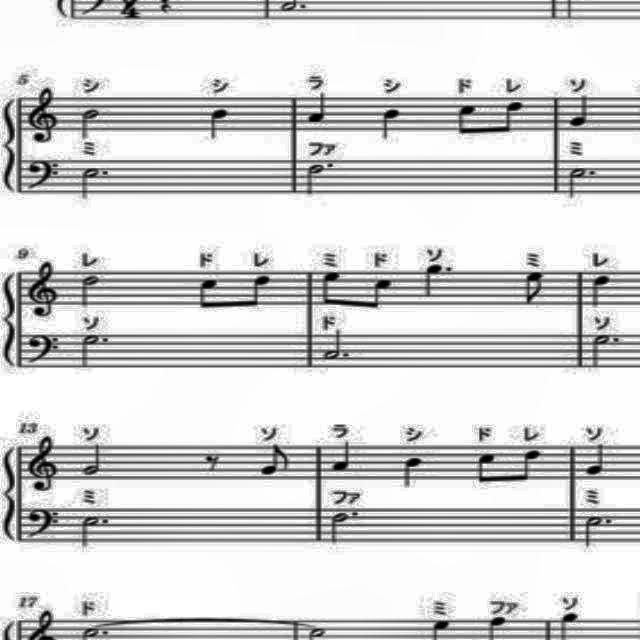Bass-clef: (26, 157, 62, 199), (25, 330, 67, 366), (27, 504, 65, 540)
Eighth-note: (488, 96, 528, 138), (187, 272, 223, 318), (254, 443, 294, 481), (238, 271, 274, 313), (447, 98, 478, 142), (365, 274, 397, 316), (314, 269, 346, 311), (512, 448, 544, 488), (471, 450, 501, 490), (519, 269, 547, 307)
Eighth-rest: (200, 448, 224, 476)
Half-dot: (579, 513, 619, 555), (418, 261, 458, 303), (322, 509, 366, 547), (303, 156, 337, 202), (76, 331, 112, 374), (77, 162, 113, 202), (80, 513, 112, 555), (590, 331, 622, 373), (322, 328, 354, 367), (566, 163, 598, 201)
Half-note: (76, 271, 108, 309), (72, 104, 104, 140), (80, 438, 108, 478)
Quarter-note: (561, 91, 595, 132), (392, 451, 424, 494), (378, 102, 407, 146), (207, 102, 235, 144), (304, 88, 332, 126), (588, 271, 616, 309), (329, 439, 356, 476), (585, 440, 607, 480)
Treble-clef: (26, 258, 66, 320), (25, 84, 63, 148), (28, 432, 61, 494)
